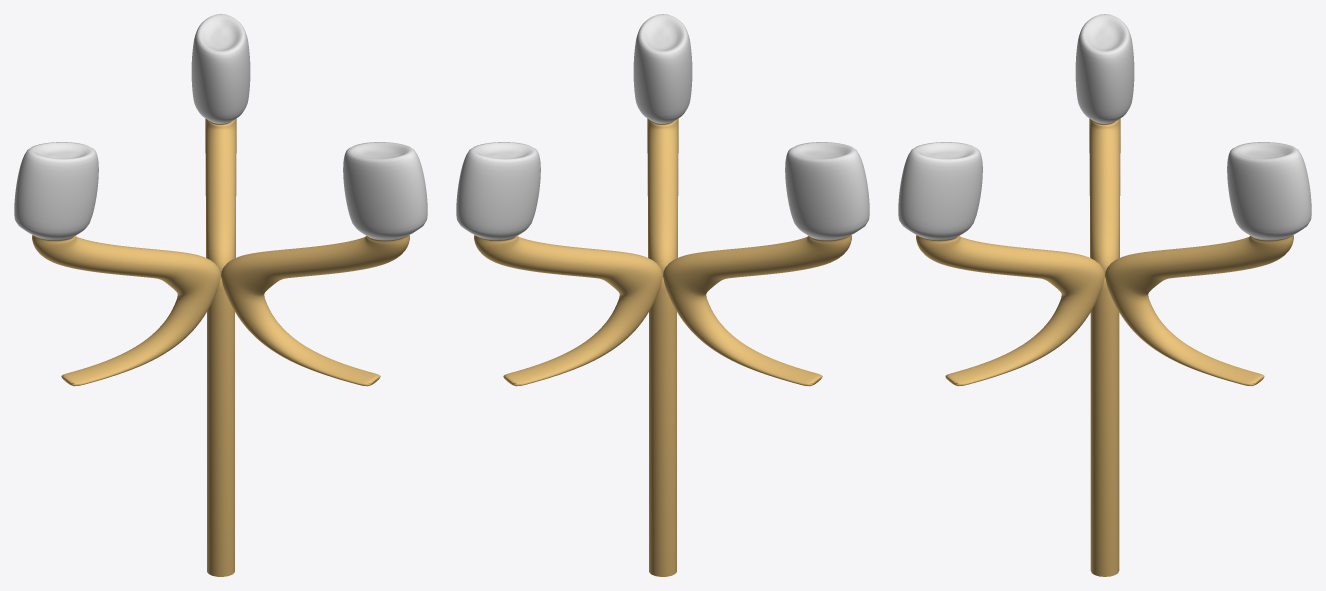
File: SM_Lamp.fbx
3 renders of one model, left to right at view 1: azimuth 30°, elevation 25°; view 2: azimuth 150°, elevation 25°; view 3: azimuth 270°, elevation 25°, orthographic.
Visible parts, largest first — view 1: Cylinder.001, Cylinder.003, Cylinder.002, Cylinder; view 2: Cylinder.002, Cylinder.003, Cylinder.001, Cylinder; view 3: Cylinder.001, Cylinder.002, Cylinder.003, Cylinder.
Part boxes in pixels (x1,y1,x2,y2): Cylinder.001: [221, 142, 427, 386]; Cylinder.003: [14, 142, 220, 386]; Cylinder.002: [191, 14, 250, 272]; Cylinder: [207, 277, 234, 576]; Cylinder.002: [456, 142, 662, 386]; Cylinder.003: [663, 142, 869, 386]; Cylinder.001: [633, 14, 692, 272]; Cylinder: [649, 277, 676, 576]; Cylinder.001: [898, 142, 1104, 386]; Cylinder.002: [1105, 142, 1311, 386]; Cylinder.003: [1075, 14, 1134, 272]; Cylinder: [1090, 277, 1119, 576].
Size of the model in its own units: 143 by 201 by 162.
